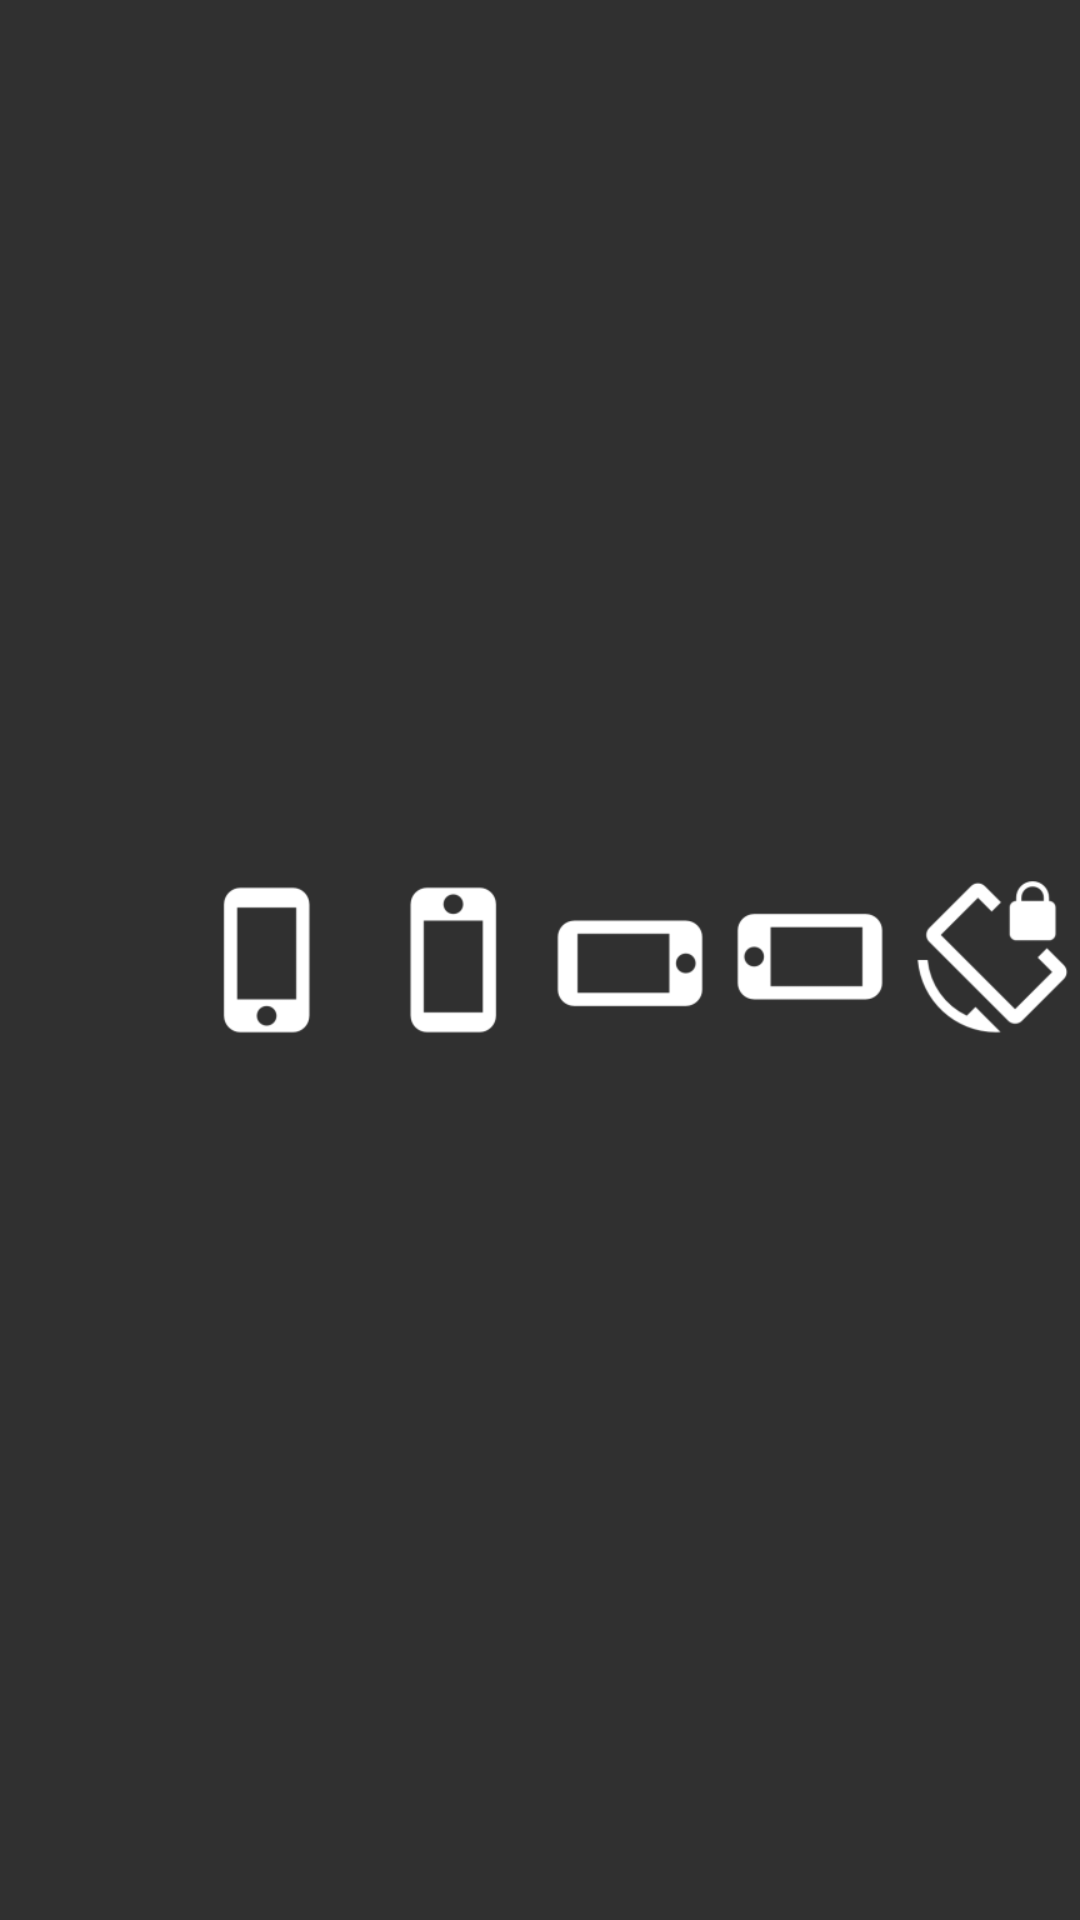

Where icons sit on this 1080×1920 app screen, as (x1, y1, x2, y2):
Locked: (917, 881, 1068, 1033)
Portrait: (223, 887, 310, 1033)
